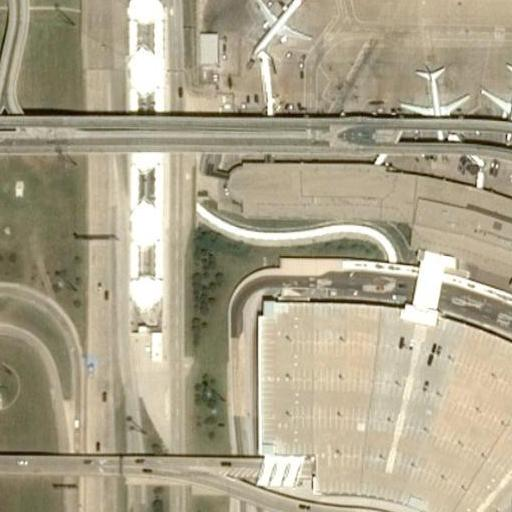Aircraft: (240, 0, 315, 57), (406, 61, 465, 129), (476, 55, 512, 136)
